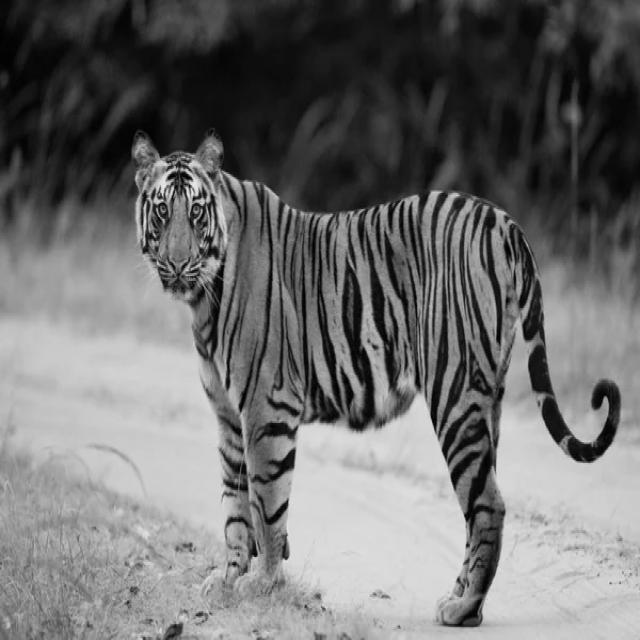Animal: (131, 131, 622, 627)
